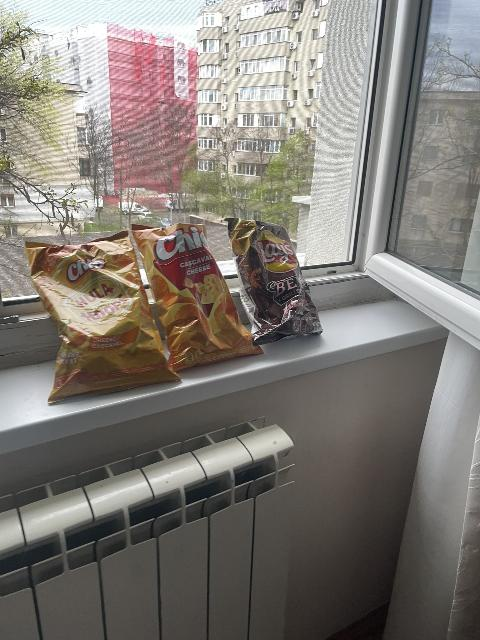Chio Cascaval 125g: (137, 222, 268, 372)
Chio Hula Hoops Cheese 70g: (27, 230, 181, 400)
Lays Beef Grilled Ribs 125g: (226, 217, 319, 345)
